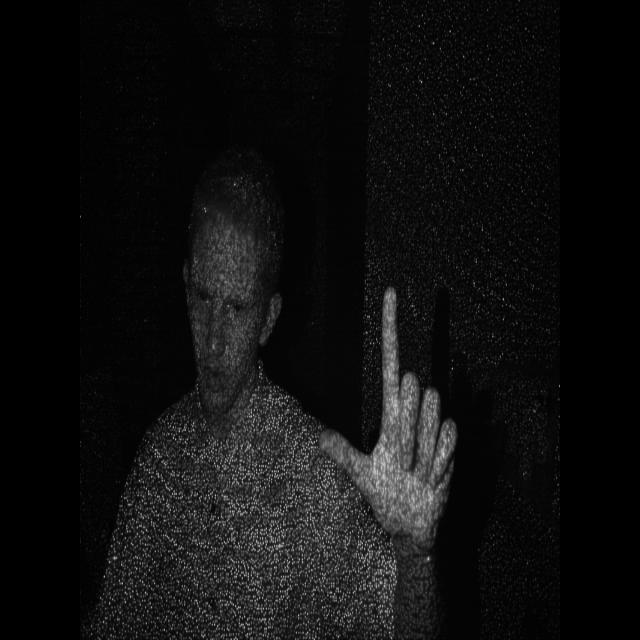L: (324, 288, 474, 556)
